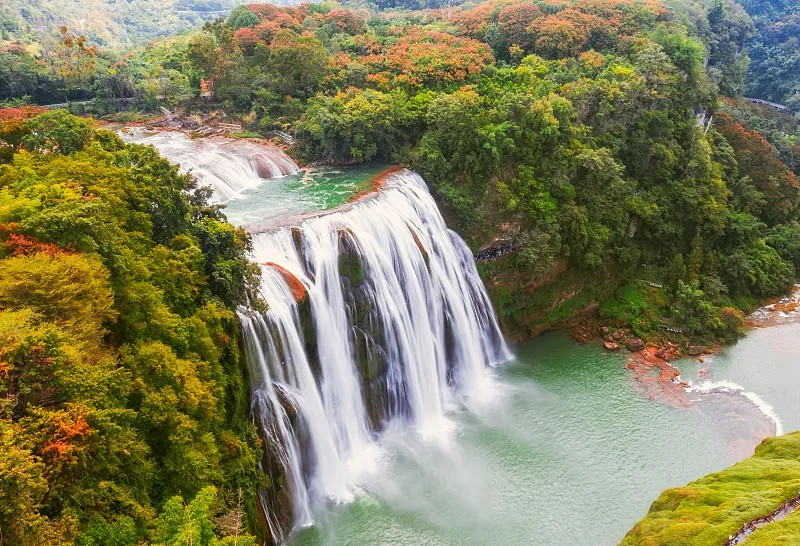Huangguoshu: (200, 155, 515, 524)
